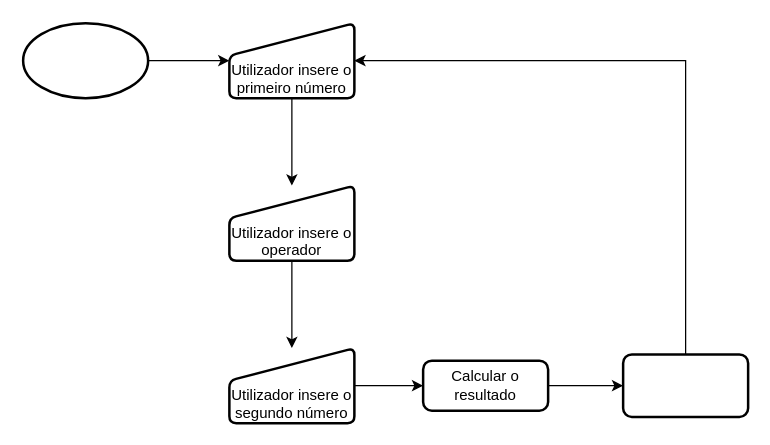
The diagram is 770 pixels wide and 445 high, and some of its shapes have lost their labels. Here are the shapes that lost their labels. From the top down, the centre of each, then its label:
At (85,60): "Inicio".
At (685,385): "Output do resultado".
